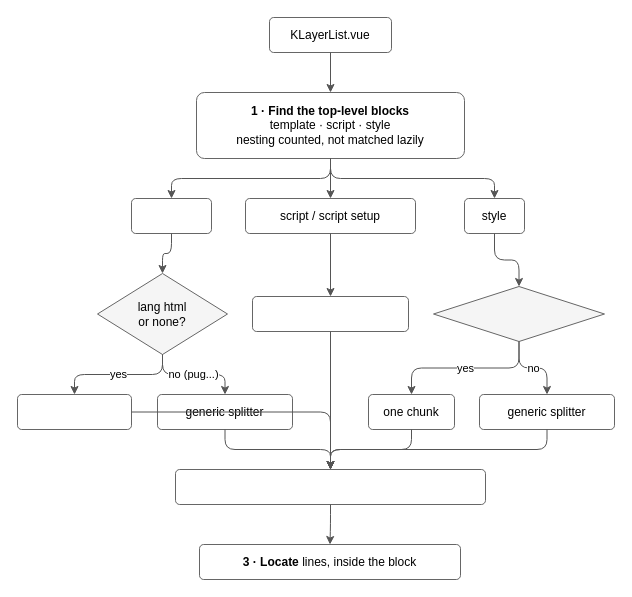
Image size: 632x597. Some labels were removed from this diagram. Each missing label, with the box of its shape:
2 · Head with path, component name, block: (174, 468, 486, 504)
HTML splitter: (16, 394, 132, 430)
JavaScript splitter: (252, 296, 408, 332)
template: (130, 198, 212, 234)
≤ 1600 chars?: (432, 286, 604, 342)
